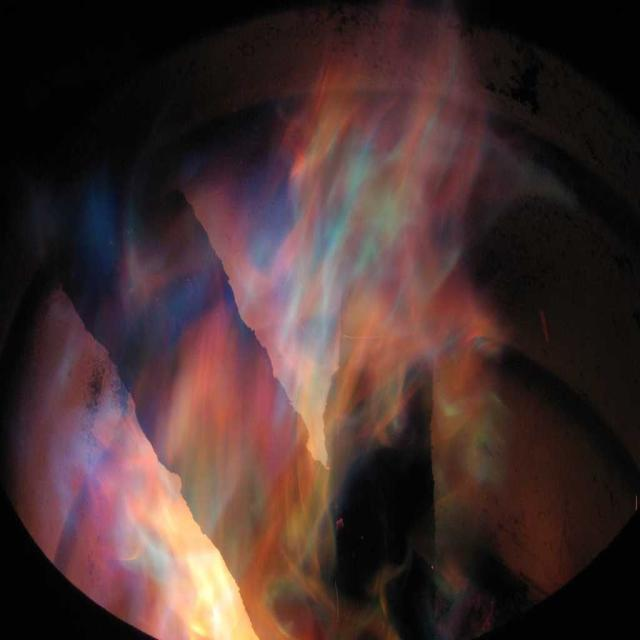Fire: (40, 313, 246, 636), (295, 44, 470, 353), (250, 320, 360, 628)
